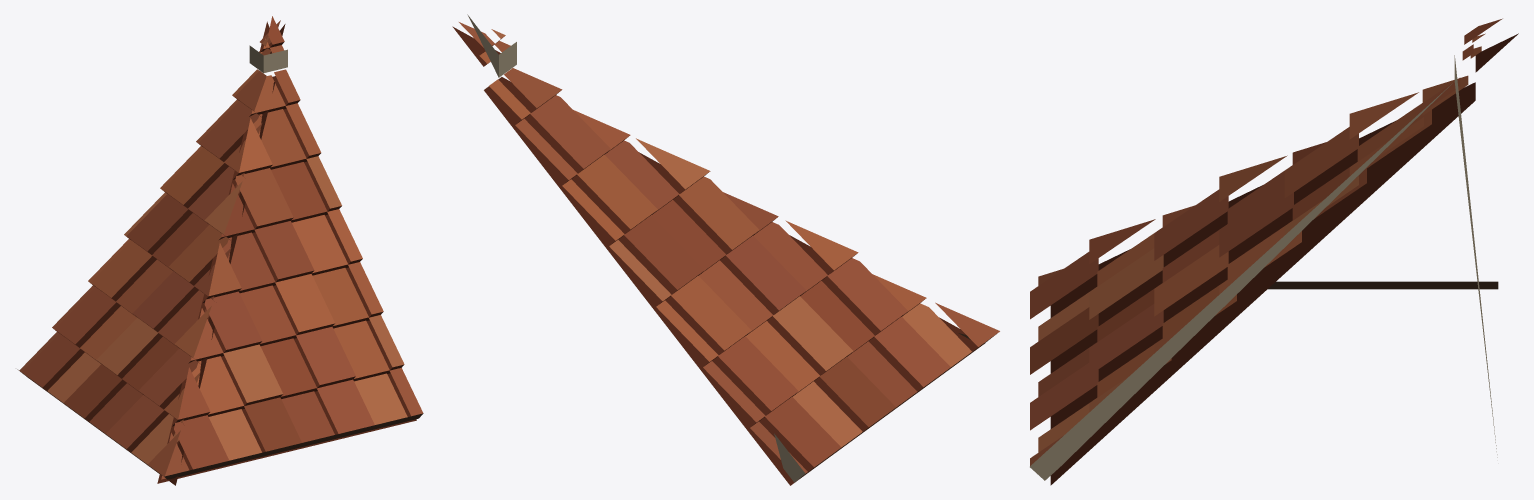
Rendered from roof-high-corner-tile.glb.
3 renders of one model, left to right at view 1: azimuth 30°, elevation 25°; view 2: azimuth 150°, elevation 25°; view 3: azimuth 270°, elevation 25°, orthographic. The views are drawn at different scales.
Visible parts, largest first — view 1: roof-high-corner-tile; view 2: roof-high-corner-tile; view 3: roof-high-corner-tile.
Part boxes in pixels (x1,y1,x2,y2): roof-high-corner-tile: (17,16,423,485); roof-high-corner-tile: (452,14,999,485); roof-high-corner-tile: (1030,18,1518,485).
Bounding box in the file's own units: 1.12 × 1.19 × 1.12.
